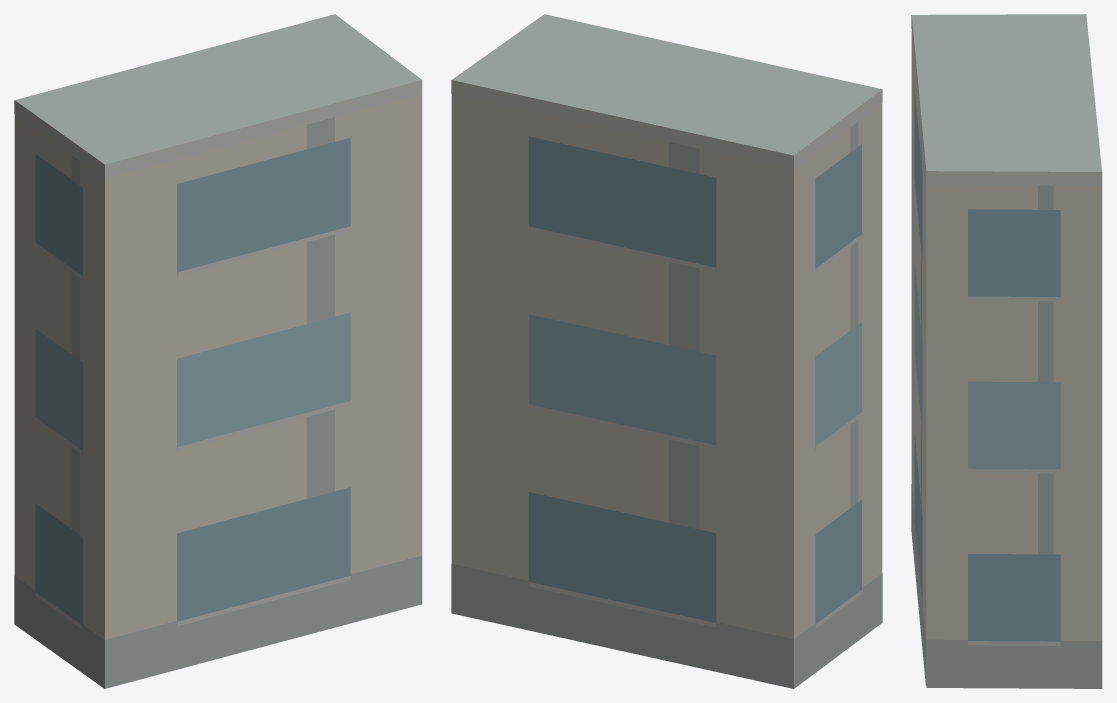
Rendered from survey-upis-32543068.glb.
The picture shows the model from 3 angles, left to right: view 1: azimuth 30°, elevation 25°; view 2: azimuth 150°, elevation 25°; view 3: azimuth 270°, elevation 25°; orthographic projection. The views are drawn at different scales.
Parts seen in each view (by area): view 1: survey-upis-32543068.tmp; view 2: survey-upis-32543068.tmp; view 3: survey-upis-32543068.tmp.
Part boxes in pixels (<box>): survey-upis-32543068.tmp: <box>14,14,422,688</box>; survey-upis-32543068.tmp: <box>451,14,882,688</box>; survey-upis-32543068.tmp: <box>911,14,1102,688</box>.
Bounding box in the file's own units: 6.01 × 9.15 × 3.07.
